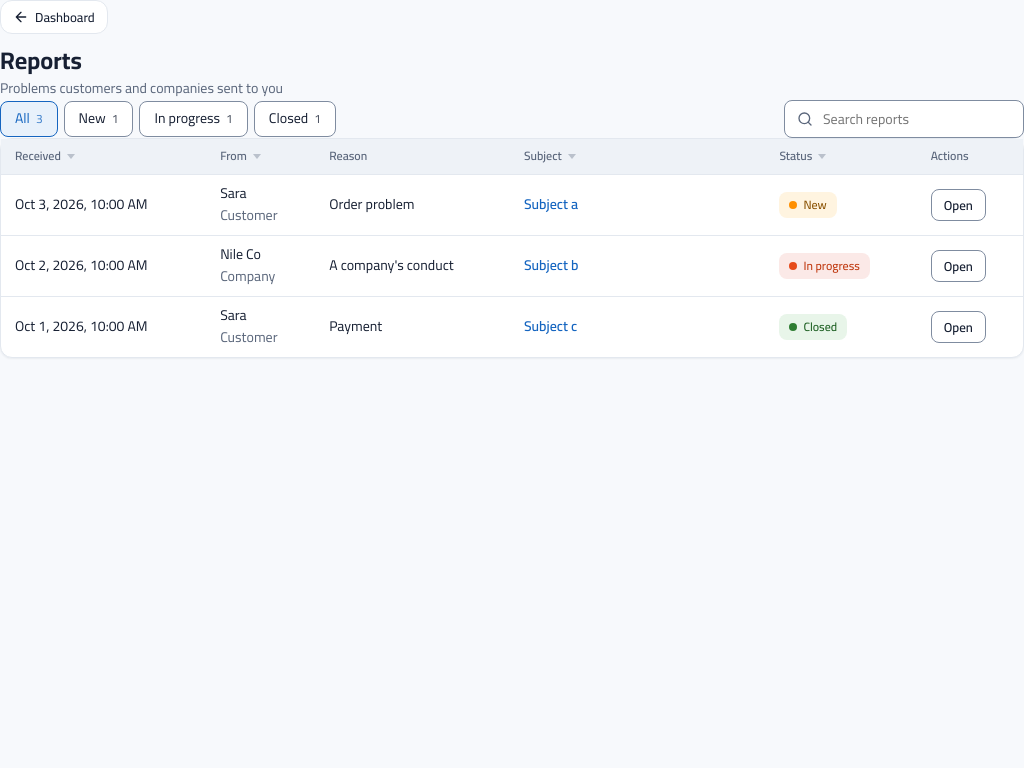
Scenario: handling one › has nothing to save until something changes
Click the button "Open" in the row of "Oct 3, 2026, 10:00 AM".
click(958, 205)  # box [931, 189, 986, 221]
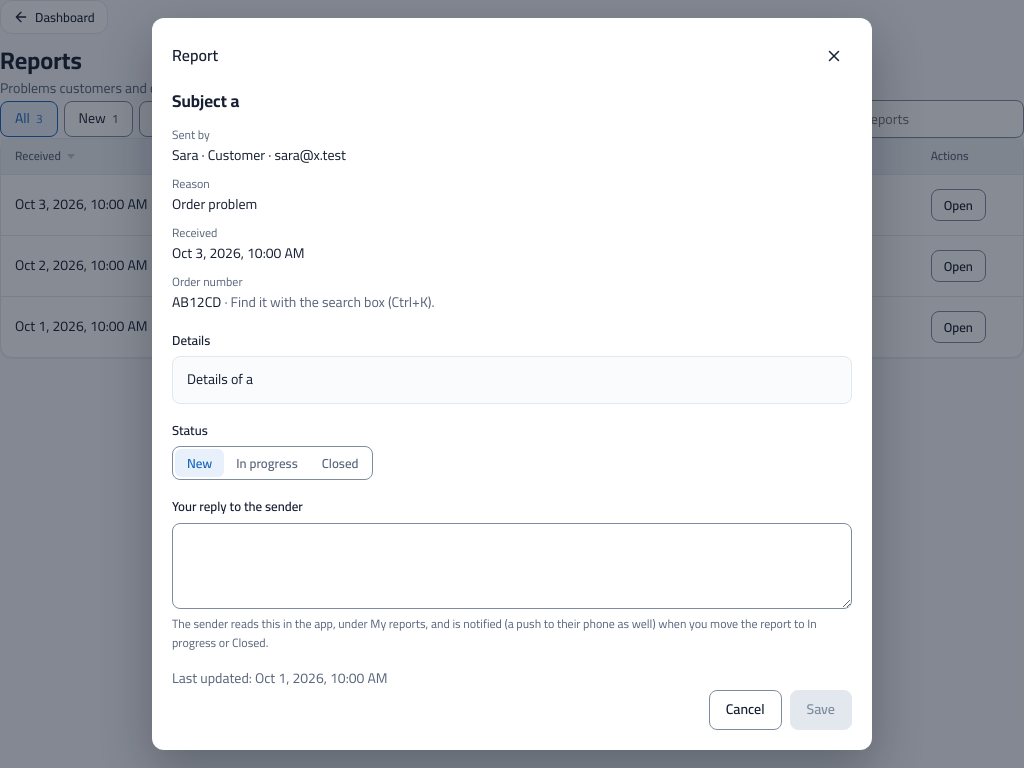
Now the button "Save" is disabled, box [790, 690, 852, 730]
